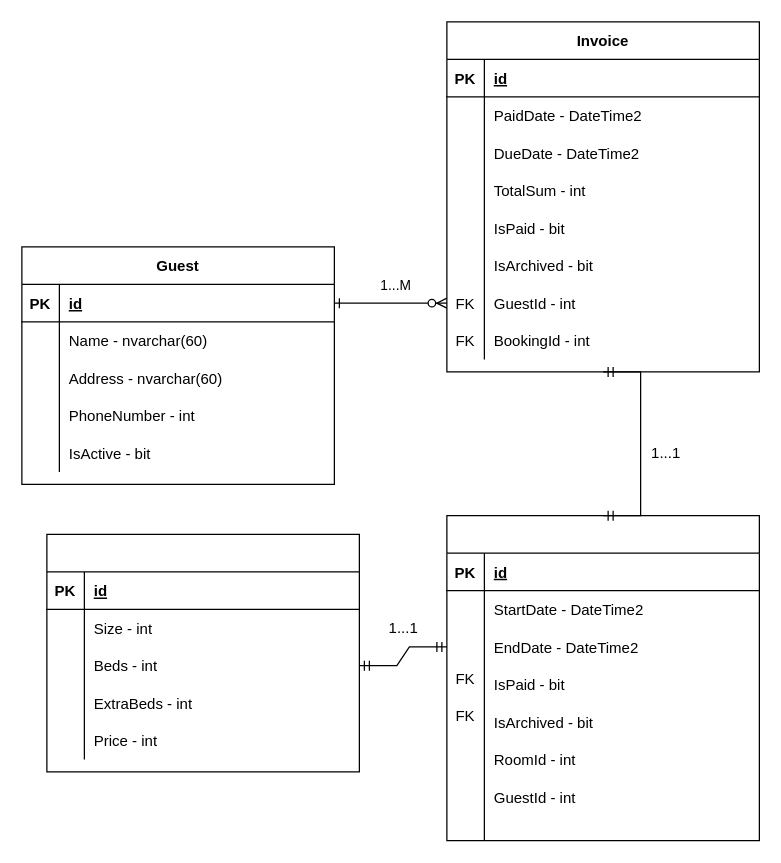
Image size: 781x863. Some labels were removed from this diagram. Here are the shapes that lost their labels. From the top down, the box of each, then its label:
(46, 533, 359, 772): Room
(446, 514, 759, 841): Booking
